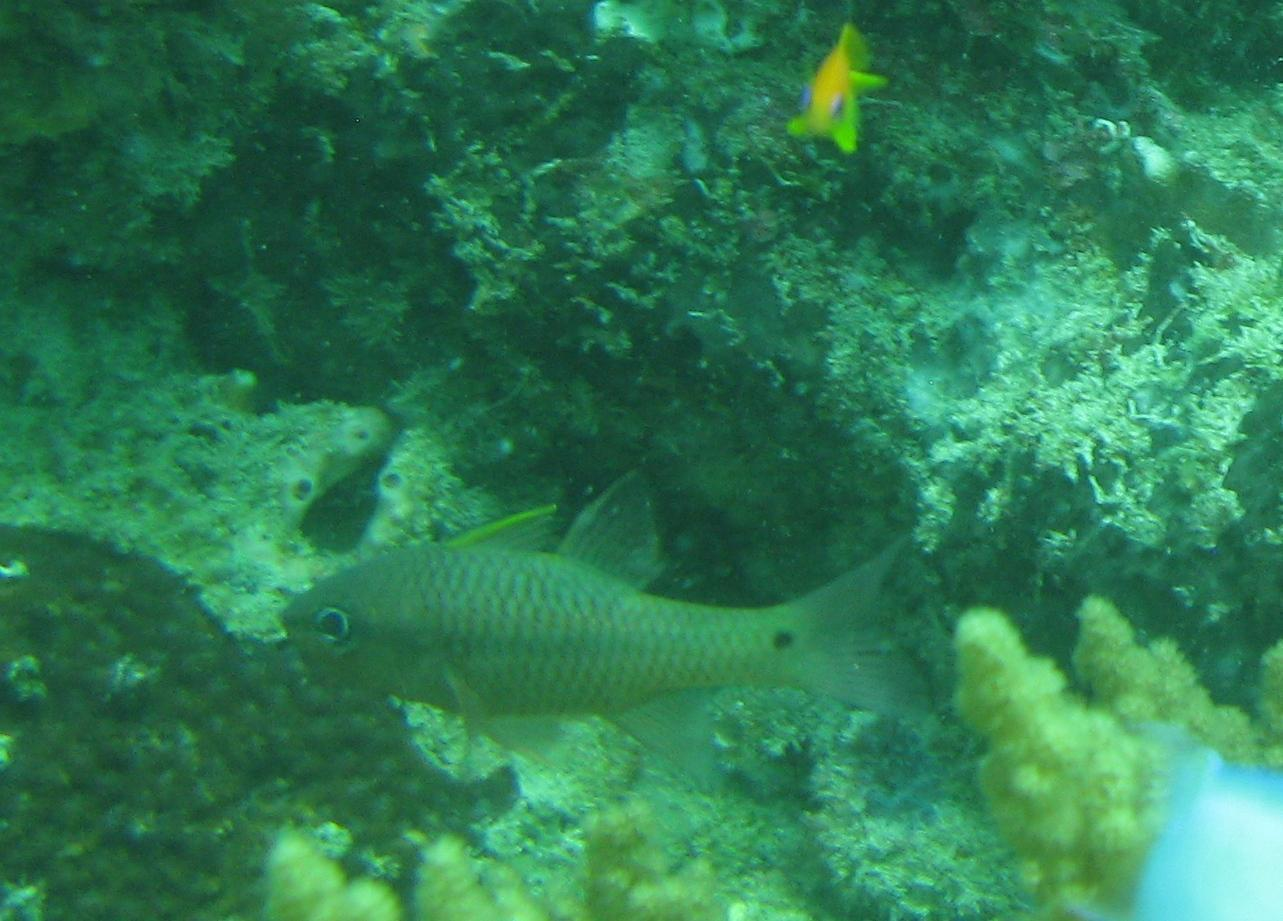Apogon kallopterus: (262, 462, 934, 798)
